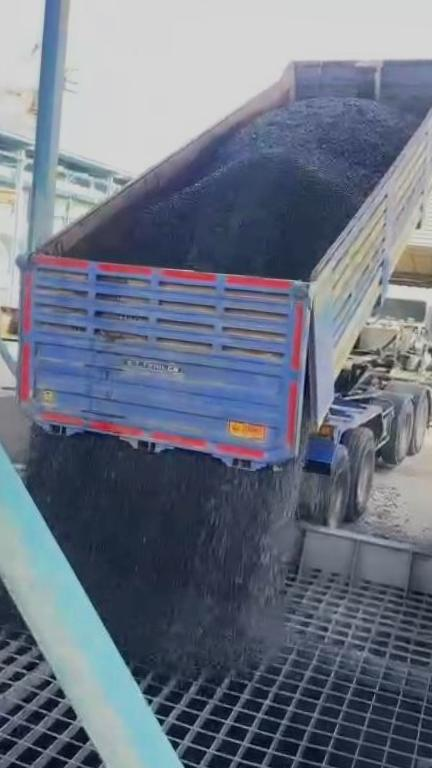gravel: (26, 431, 297, 673), (72, 98, 416, 278), (0, 549, 22, 626)
